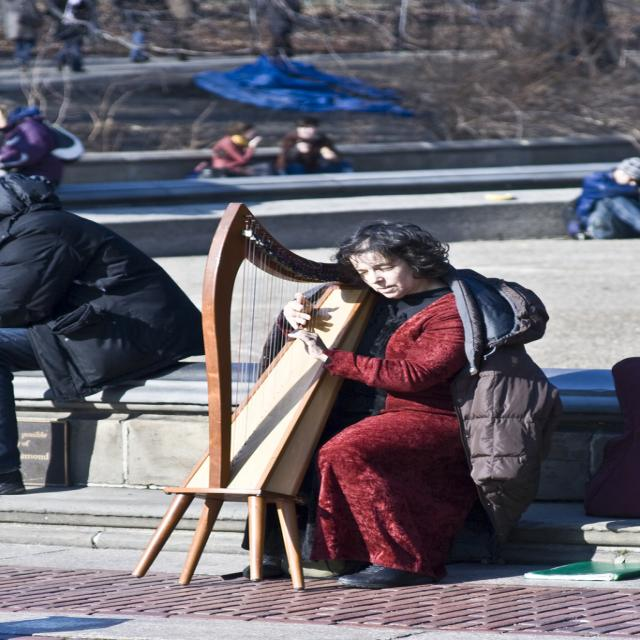harp: (128, 202, 391, 594)
